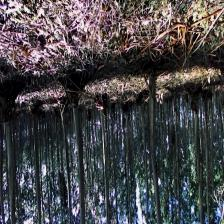trunk: (148, 74, 162, 219), (70, 96, 86, 219), (3, 104, 17, 220), (192, 96, 204, 213)
